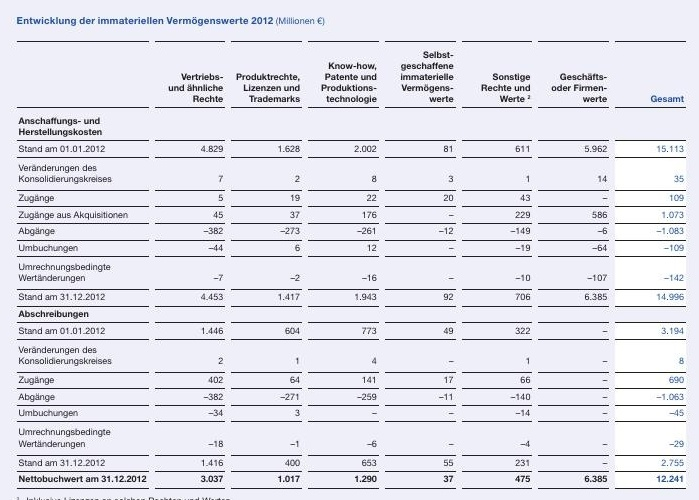table: (0, 0, 699, 500)
